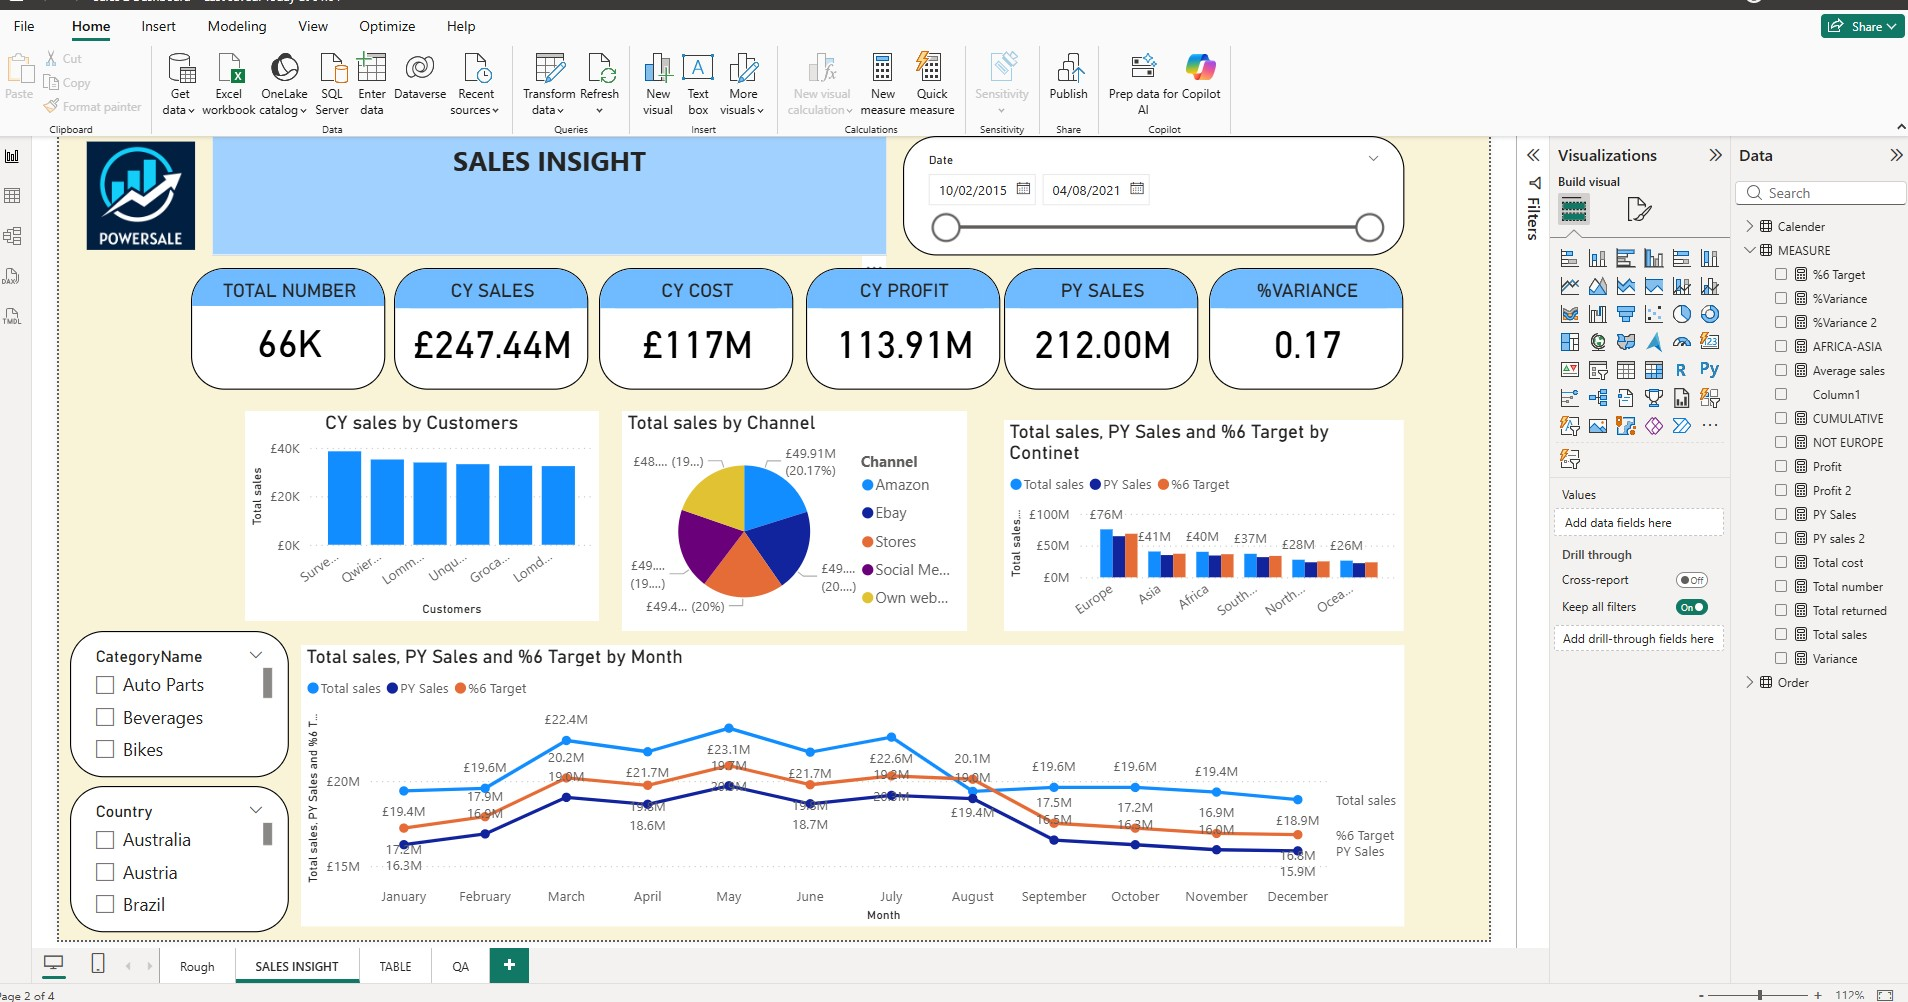

This screenshot's page, from the dashboard's own definition file:
{"tool":"powerbi","page":{"name":"SALES INSIGHT","canvas":[1280,720],"ordinal":1},"visuals":[{"type":"image","box":[10,0,126.7,106.7],"z":0},{"type":"textbox","box":[136.7,0,604.4,106.7],"z":1000},{"type":"slicer","fields":{"Values":["Calender.Date"]},"box":[755.6,0,448.9,106.7],"z":2000},{"type":"card","title":"TOTAL NUMBER","fields":{"Values":["MEASURE.Total number"]},"box":[117.8,117.8,174.4,108.9],"z":3000},{"type":"card","title":"CY SALES","fields":{"Values":["MEASURE.Total sales"]},"box":[300,117.8,174.4,108.9],"z":4000},{"type":"card","title":"CY COST","fields":{"Values":["MEASURE.Total cost"]},"box":[483.3,117.8,174.4,108.9],"z":5000},{"type":"card","title":"CY PROFIT","fields":{"Values":["MEASURE.Profit"]},"box":[668.9,117.8,174.4,108.9],"z":6000},{"type":"card","title":"PY SALES","fields":{"Values":["MEASURE.PY Sales"]},"box":[846.7,117.8,174.4,108.9],"z":7000},{"type":"card","title":"%VARIANCE","fields":{"Values":["MEASURE.%Variance"]},"box":[1030,117.8,174.4,108.9],"z":8000},{"type":"columnChart","title":"CY sales by Customers","fields":{"Category":["Order.Customers"],"Y":["MEASURE.Total sales"]},"box":[166.7,246.7,316.7,187.8],"z":9000},{"type":"pieChart","fields":{"Y":["MEASURE.Total sales"],"Category":["Order.Channel"]},"box":[504.4,246.7,308.9,196.7],"z":10000},{"type":"clusteredColumnChart","fields":{"Category":["Order.Continet"],"Y":["MEASURE.Total sales","MEASURE.PY Sales","MEASURE.%6 Target"]},"box":[846.7,254.4,357.8,188.9],"z":11000},{"type":"lineChart","fields":{"Y":["MEASURE.Total sales","MEASURE.PY Sales","MEASURE.%6 Target"],"Category":["Calender.Date.Variation.Date Hierarchy.Month"]},"box":[216.7,455.6,987.8,252.2],"z":12000},{"type":"slicer","fields":{"Values":["Order.CategoryName"]},"box":[10,443.3,195.6,131.1],"z":13000},{"type":"slicer","fields":{"Values":["Order.Country"]},"box":[10,582.2,195.6,131.1],"z":14000}]}

Visuals, with their boxes on the page's 1280x720 design canvas (x1, y1, x2, y2). These are canvas units, not pixel positions in the 1908x1002 screenshot, which may show the page scaled, cropped or inside an application window:
image: detection(10, 0, 137, 107)
textbox: detection(137, 0, 741, 107)
slicer - Calender.Date: detection(756, 0, 1204, 107)
"TOTAL NUMBER" card: detection(118, 118, 292, 227)
"CY SALES" card: detection(300, 118, 474, 227)
"CY COST" card: detection(483, 118, 658, 227)
"CY PROFIT" card: detection(669, 118, 843, 227)
"PY SALES" card: detection(847, 118, 1021, 227)
"%VARIANCE" card: detection(1030, 118, 1204, 227)
"CY sales by Customers" columnChart: detection(167, 247, 483, 434)
pieChart - MEASURE.Total sales x Order.Channel: detection(504, 247, 813, 443)
clusteredColumnChart - Order.Continet x MEASURE.Total sales: detection(847, 254, 1204, 443)
lineChart - MEASURE.Total sales x MEASURE.PY Sales: detection(217, 456, 1204, 708)
slicer - Order.CategoryName: detection(10, 443, 206, 574)
slicer - Order.Country: detection(10, 582, 206, 713)
